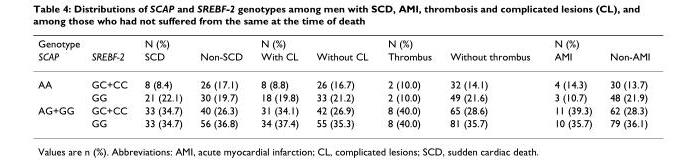table: (37, 37, 649, 128)
table column: (440, 37, 541, 128), (306, 37, 377, 128), (377, 37, 440, 128), (190, 37, 251, 128), (541, 37, 600, 128), (135, 37, 190, 128), (251, 37, 306, 128), (82, 37, 135, 128), (600, 37, 649, 128), (37, 37, 82, 128)
table column header: (37, 37, 649, 69)
table row: (37, 69, 649, 90), (37, 49, 649, 69), (37, 90, 649, 103), (37, 103, 649, 116), (37, 37, 649, 49), (37, 116, 649, 128)
table spanning cell: (377, 37, 541, 49), (37, 69, 82, 103), (251, 37, 377, 49), (135, 37, 251, 49), (541, 37, 649, 49), (37, 37, 135, 49), (37, 103, 82, 128)
